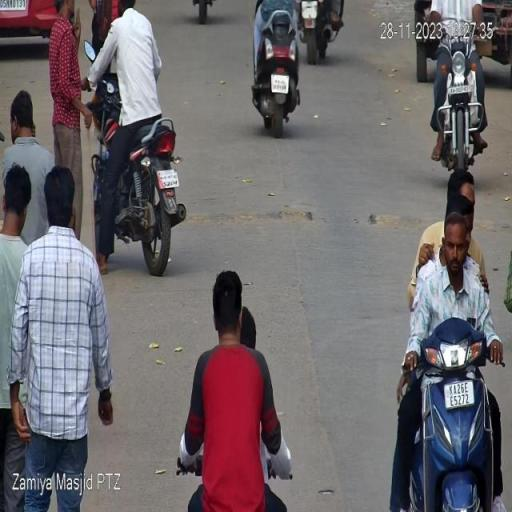tripple riding: (394, 164, 510, 383)
